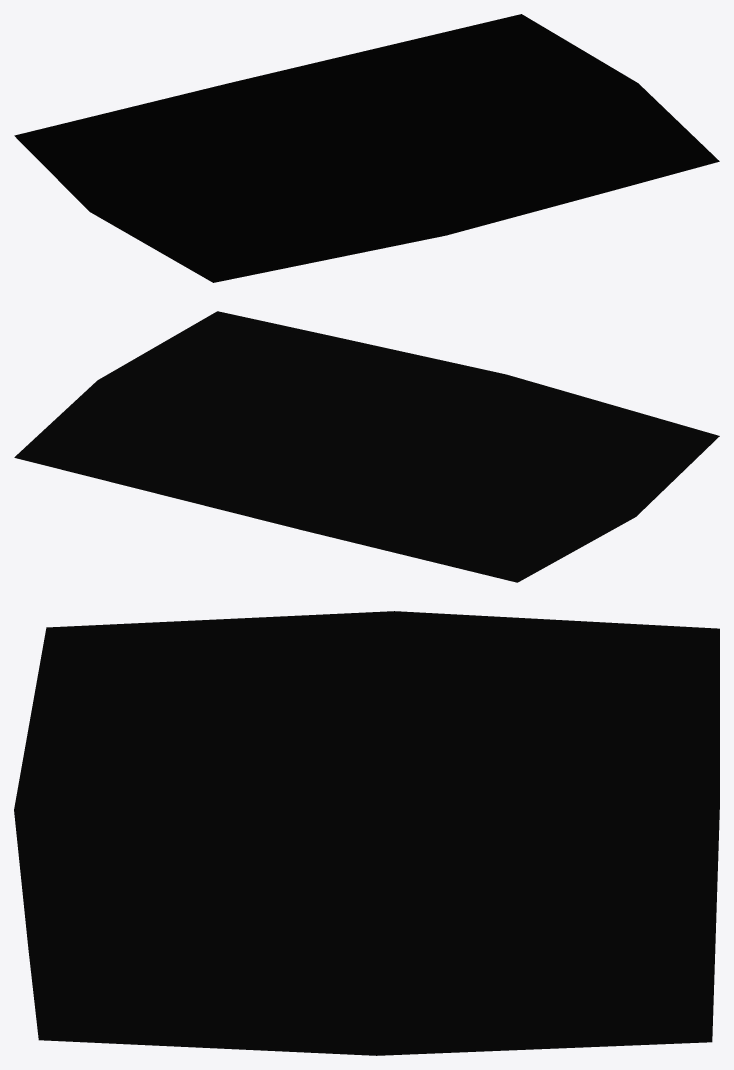
3 renders of one model, top to bottom at view 1: azimuth 30°, elevation 25°; view 2: azimuth 150°, elevation 25°; view 3: azimuth 270°, elevation 25°, orthographic. The views are drawn at different scales.
Parts seen in each view (by area): view 1: Joint_0_Object_0; view 2: Joint_0_Object_0; view 3: Joint_0_Object_0.
Boxes of the visible parts, left/top/right/bottom form: Joint_0_Object_0: left=14, top=14, right=719, bottom=282; Joint_0_Object_0: left=14, top=311, right=719, bottom=582; Joint_0_Object_0: left=14, top=611, right=719, bottom=1055.
Size of the model in its own units: 1371 by 0 by 920.
Materials: 1 (1 with a texture image).
